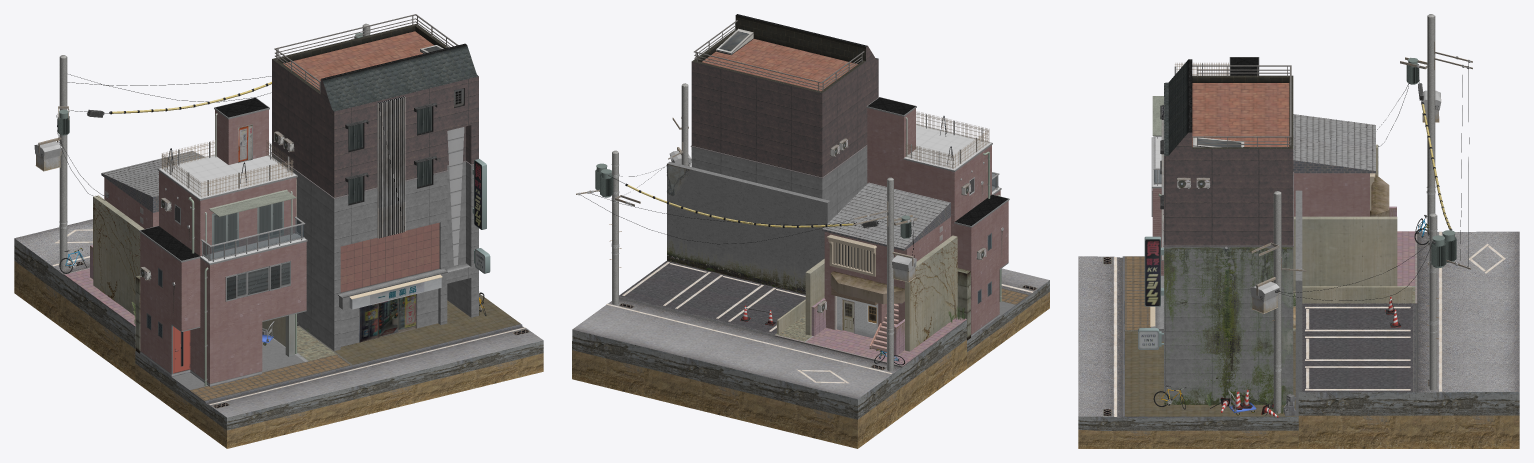
The model's file is Low_Poly_Street_Kyoto_Gion.glb.
The picture shows the model from 3 angles, left to right: view 1: azimuth 30°, elevation 25°; view 2: azimuth 150°, elevation 25°; view 3: azimuth 270°, elevation 25°; orthographic projection. The views are drawn at different scales.
Visible parts, largest first — view 1: BMW_House_Wall_0, Pedestal_Material #243_0, InnGion_T_WallBottom_D_0, InnGion_T_WallTop_D_0, InnGion_T_1DTileable2_D_0, Pedestal_AsphaltRoad_0, BMW_House_Seethrough, Pillar, Balcony-Roof_0, InnGion_T_Unique1_D_0, InnGion_T_1DTileable1_D_0, InnGion_T_WallFrontSpecial_D_0, Wall007_Material #180_0, BMW_House_FloorTiles_0 (+19 smaller); view 2: Pedestal_Material #243_0, InnGion_T_WallTop_D_0, Wall006_Material #242_0, Pedestal_AsphaltRoad_0, BMW_House_Wall_0, Pedestal_AsphaltParking_0, Pole010_Material #1_0, InnGion_T_WallBottom_D_0, Wall007_Material #180_0, PinkHouse_Roof_0, InnGion_T_Roof_D_0, Object004_Material #243_0 (+21 smaller); view 3: Pedestal_AsphaltRoad_0, Pedestal_Material #243_0, InnGion_T_WallBottom_D_0, InnGion_T_WallTop_D_0, Object001_Material #243_0, Pedestal_AsphaltParking_0, Wall004_Material #180_0, InnGion_T_Roof_D_0, Pole010_Material #1_0, Pedestal_InnGround_0, PinkHouse_Roof_0, InnGion_T_1DTileable1_D_0 (+16 smaller).
Part boxes in pixels (x1,y1,x2,y2): BMW_House_Wall_0: [140, 109, 306, 383]; Pedestal_Material #243_0: [14, 238, 543, 448]; InnGion_T_WallBottom_D_0: [272, 154, 478, 350]; InnGion_T_WallTop_D_0: [272, 59, 478, 197]; InnGion_T_1DTileable2_D_0: [277, 26, 478, 265]; Pedestal_AsphaltRoad_0: [14, 219, 543, 417]; BMW_House_Seethrough, Pillar, Balcony-Roof_0: [161, 140, 303, 379]; InnGion_T_Unique1_D_0: [340, 96, 484, 346]; InnGion_T_1DTileable1_D_0: [271, 14, 490, 299]; InnGion_T_WallFrontSpecial_D_0: [340, 222, 439, 292]; Wall007_Material #180_0: [93, 195, 144, 315]; BMW_House_FloorTiles_0: [159, 155, 305, 263]; Pedestal_Material #243_0: [572, 280, 1049, 448]; InnGion_T_WallTop_D_0: [691, 46, 878, 177]; Wall006_Material #242_0: [667, 161, 830, 287]; Pedestal_AsphaltRoad_0: [572, 268, 1049, 399]; BMW_House_Wall_0: [867, 108, 1008, 334]; Pedestal_AsphaltParking_0: [619, 261, 805, 334]; Pole010_Material #1_0: [576, 150, 917, 371]; InnGion_T_WallBottom_D_0: [691, 146, 867, 220]; Wall007_Material #180_0: [905, 235, 957, 351]; PinkHouse_Roof_0: [822, 182, 950, 248]; InnGion_T_Roof_D_0: [702, 39, 857, 91]; Object004_Material #243_0: [667, 233, 805, 294]; Pedestal_AsphaltRoad_0: [1078, 231, 1519, 417]; Pedestal_Material #243_0: [1078, 306, 1519, 448]; InnGion_T_WallBottom_D_0: [1159, 246, 1293, 403]; InnGion_T_WallTop_D_0: [1164, 132, 1293, 245]; Object001_Material #243_0: [1164, 246, 1292, 404]; Pedestal_AsphaltParking_0: [1302, 303, 1412, 392]; Wall004_Material #180_0: [1293, 216, 1397, 290]; InnGion_T_Roof_D_0: [1192, 83, 1289, 147]; Pole010_Material #1_0: [1377, 14, 1472, 390]; Pedestal_InnGround_0: [1125, 331, 1298, 416]; PinkHouse_Roof_0: [1293, 114, 1375, 170]; InnGion_T_1DTileable1_D_0: [1138, 65, 1293, 346].
Bounding box in the file's own units: 2095 × 1657 × 2178.
42 materials, 42 textured.
